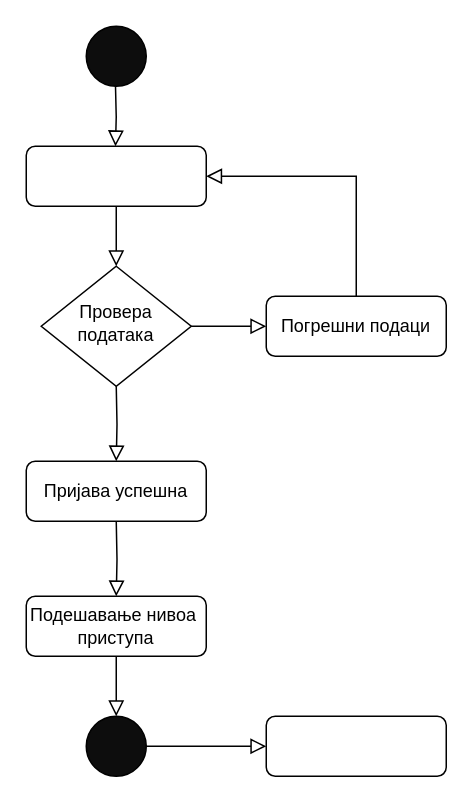
Some shapes in this 473 by 804 pixel diagram are drawn without their labels. Each missing label, with the box of its shape:
Приступ функционалностима зависно од дозоле: (265, 715, 446, 776)
Пријава админа: (25, 145, 206, 206)
